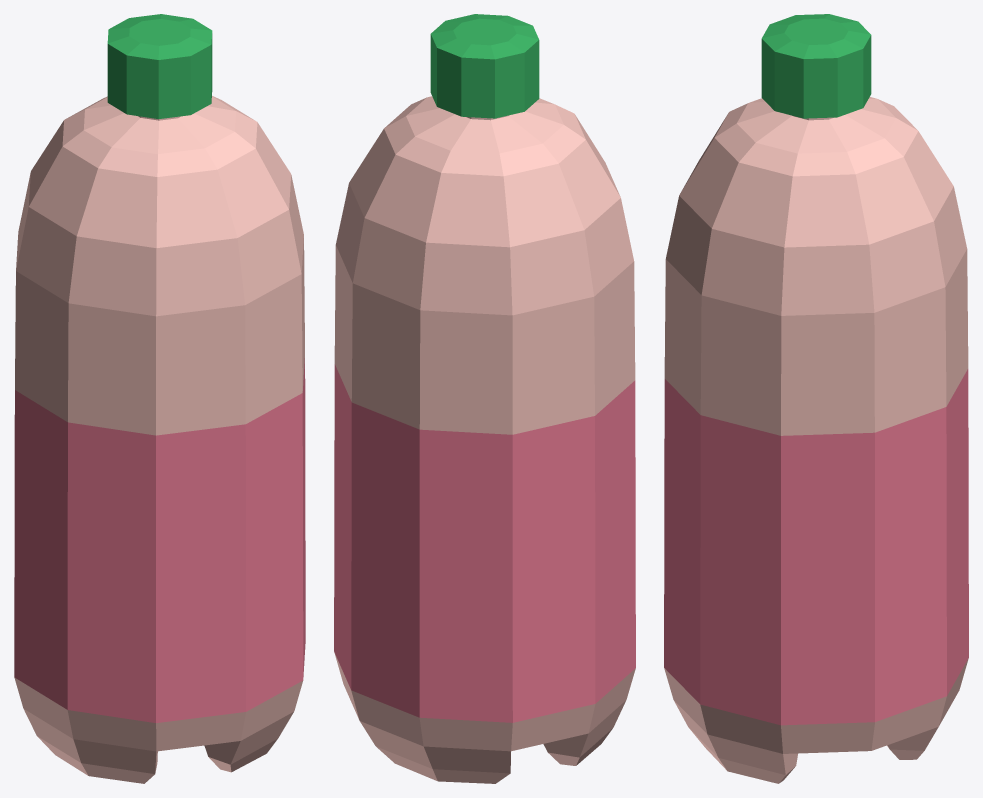
File: Potion.SpringTime.fbx
The picture shows the model from 3 angles, left to right: view 1: azimuth 30°, elevation 25°; view 2: azimuth 150°, elevation 25°; view 3: azimuth 270°, elevation 25°; orthographic projection.
Visible parts, largest first — view 1: Potion.SpringTime; view 2: Potion.SpringTime; view 3: Potion.SpringTime.
Boxes of the visible parts, x1,y1,x2,y2 form: Potion.SpringTime: (14,14,305,783); Potion.SpringTime: (334,14,635,783); Potion.SpringTime: (664,14,968,783).
Bounding box in the file's own units: 31.15 × 82.34 × 31.93.
